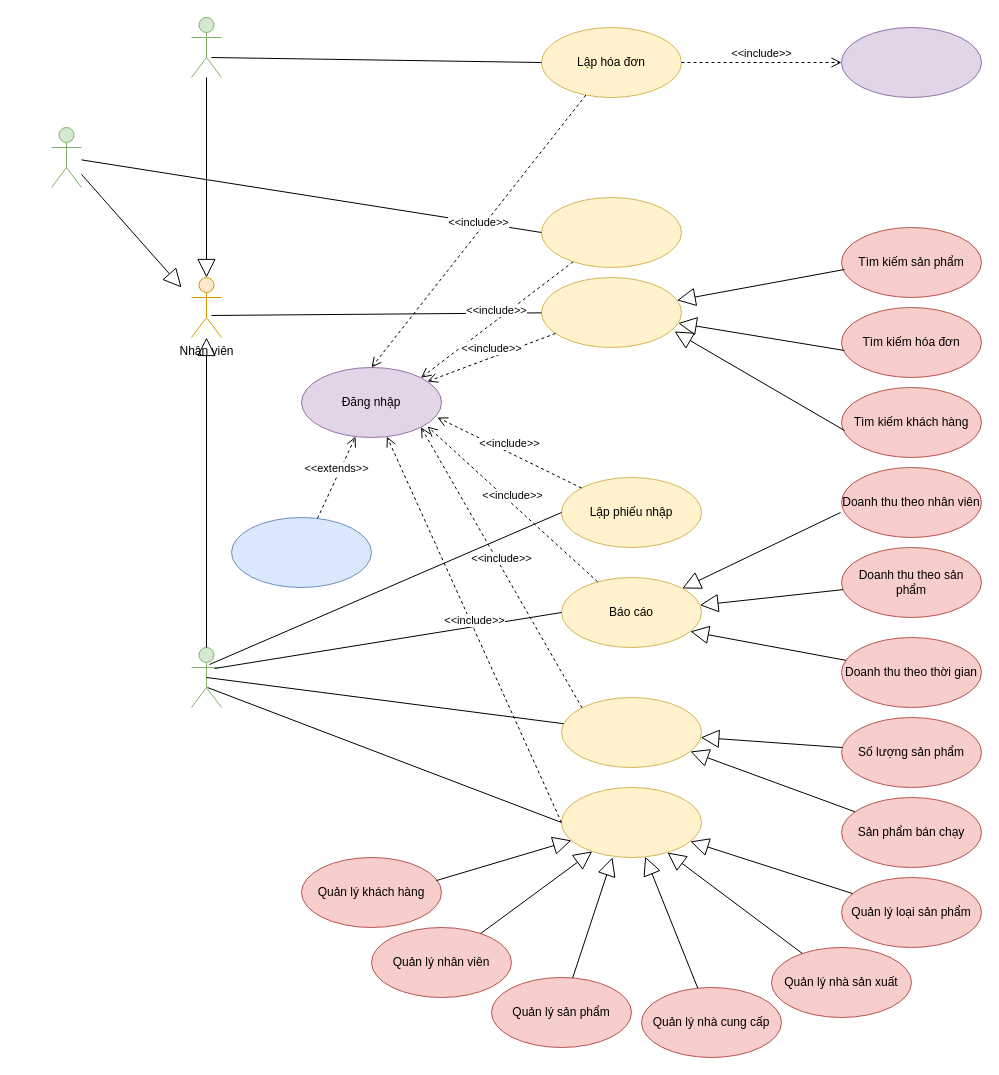
The diagram is 999 pixels wide and 1075 high, and some of its shapes have lost their labels. Here are the shapes that lost their labels. From the top down, the box of each, then its label:
(190, 16, 222, 78): Nhân viên bán hàng
(840, 26, 982, 98): Thanh toán
(50, 126, 82, 188): Nhân viên kỹ thuật
(540, 196, 682, 268): Lập phiếu đổi trả
(540, 276, 682, 348): Tìm kiếm
(230, 516, 372, 588): Quên mật khẩu
(190, 646, 222, 708): Nhân viên quản lý
(560, 696, 702, 768): Thống kê
(560, 786, 702, 858): Quản lý danh mục hệ thống
